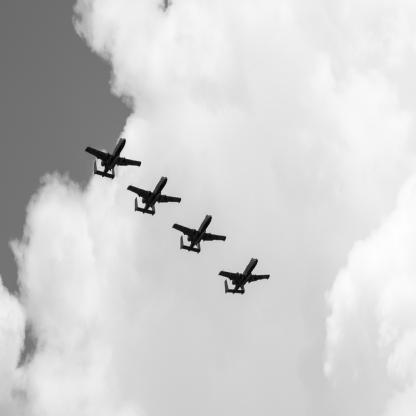A10: (85, 138, 142, 182), (127, 177, 182, 218), (173, 215, 228, 255), (219, 258, 271, 297)
